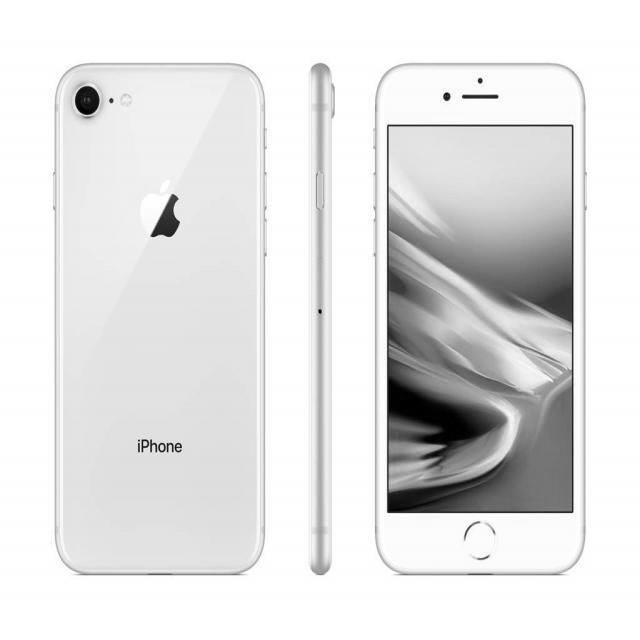fake: (48, 54, 272, 581), (367, 54, 588, 583)
